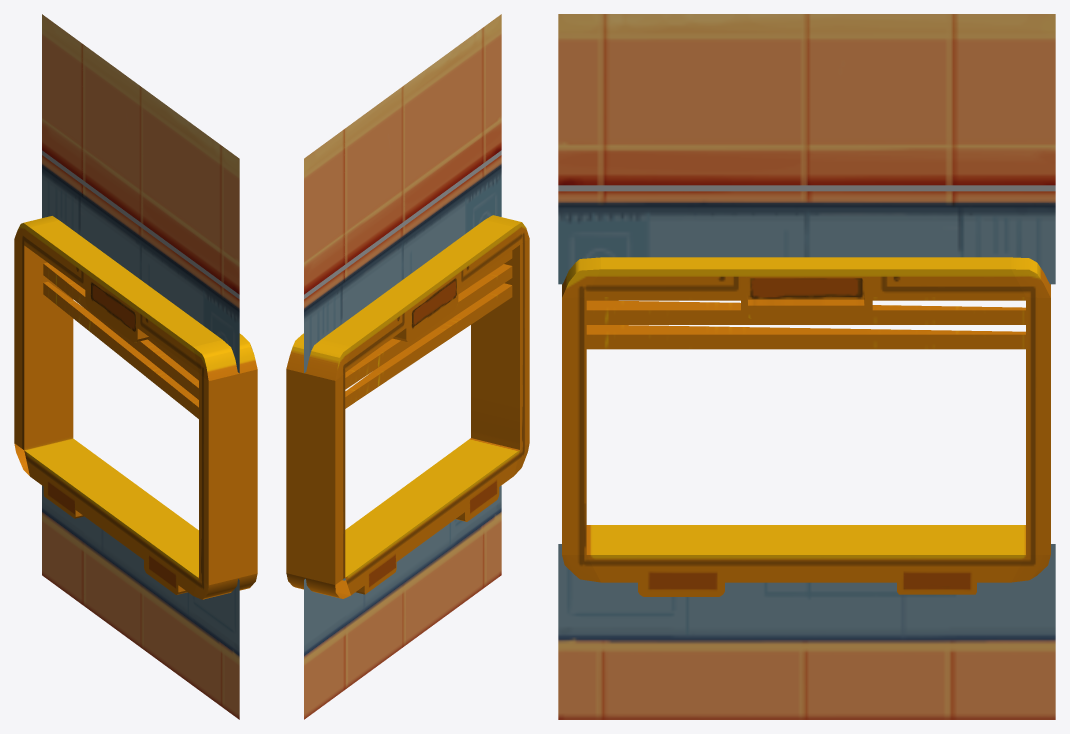
File: Wall1_2.fbx
3 renders of one model, left to right at view 1: azimuth 30°, elevation 25°; view 2: azimuth 150°, elevation 25°; view 3: azimuth 270°, elevation 25°, orthographic. The views are drawn at different scales.
Parts seen in each view (by area): view 1: Wall1_2; view 2: Wall1_2; view 3: Wall1_2.
Boxes of the visible parts, left/top/right/bottom form: Wall1_2: left=14, top=14, right=257, bottom=719; Wall1_2: left=286, top=14, right=529, bottom=719; Wall1_2: left=558, top=14, right=1055, bottom=719.
Size of the model in its own units: 21.9 by 240 by 153.
